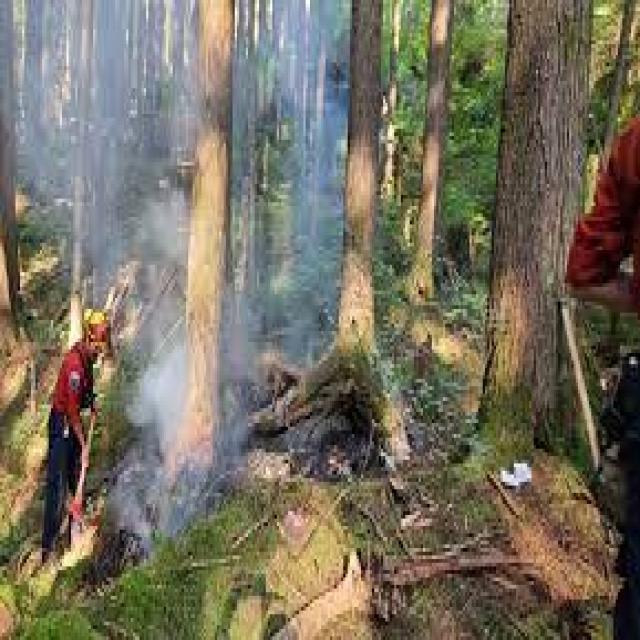Smoke: (36, 13, 188, 245), (238, 0, 335, 335), (110, 166, 190, 544)
